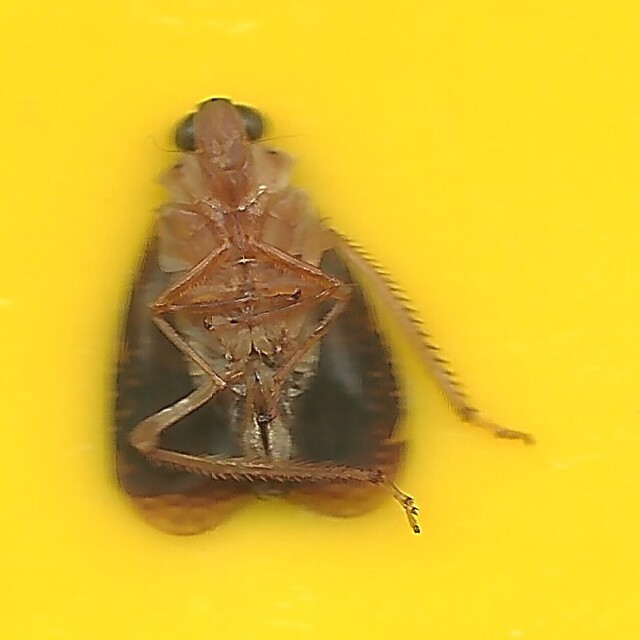Hemiptera: (101, 95, 539, 545)
